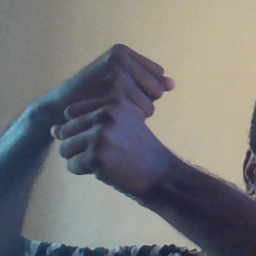G: (57, 43, 177, 184)
